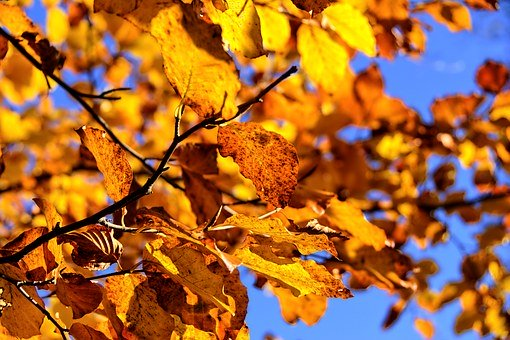tree: (4, 3, 490, 328)
